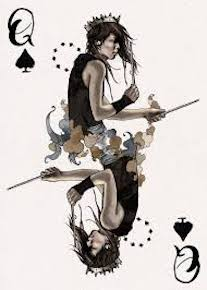QueenOfSpades: (1, 1, 207, 286)
